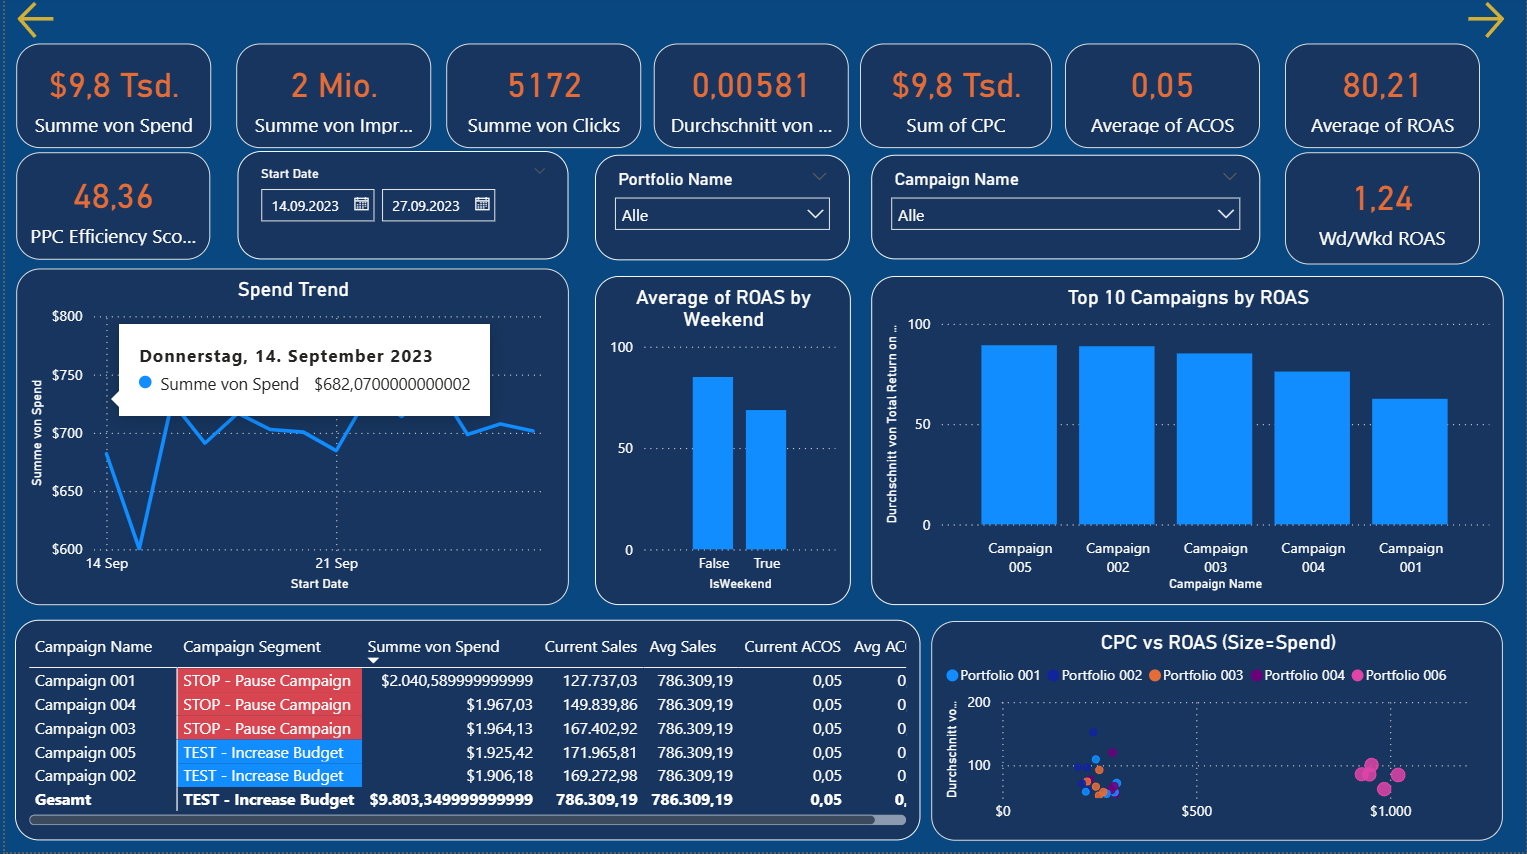

The page's visual inventory and layout, read from the dashboard file:
{"tool":"powerbi","page":{"name":"PPC Optimization 2","canvas":[1280,720],"ordinal":5},"visuals":[{"type":"card","fields":{"Values":["Sum(products_campaign_report.Spend)"]},"box":[9,40.4,164,88],"z":0},{"type":"card","fields":{"Values":["Sum(products_campaign_report.Clicks)"]},"box":[371.7,40.4,164.3,88],"z":1000},{"type":"card","fields":{"Values":["Sum(products_campaign_report.Impressions)"]},"box":[194.8,40.4,164.3,88],"z":2000},{"type":"card","fields":{"Values":["Avg(products_campaign_report.Click-Thru Rate (CTR))"]},"box":[545.8,40.4,164.3,88],"z":3000},{"type":"card","fields":{"Values":["Sum(products_campaign_report.Cost Per Click (CPC))"]},"box":[719.1,40.4,161.6,88],"z":4000},{"type":"card","fields":{"Values":["Avg(products_campaign_report.Total Return on Advertising Spend (ROAS))"]},"box":[1076.4,40.4,164.3,88],"z":5000},{"type":"card","fields":{"Values":["Avg(products_campaign_report.Total Advertising Cost of Sales (ACOS) )"]},"box":[891.5,40.4,164.3,88],"z":6000},{"type":"slicer","fields":{"Values":["products_campaign_report.Portfolio name"]},"box":[495.9,133,214.7,88.7],"z":7000},{"type":"slicer","fields":{"Values":["products_campaign_report.Campaign Name"]},"box":[728.7,134,327.6,87.7],"z":8000},{"type":"slicer","fields":{"Values":["products_campaign_report.Start Date"]},"box":[195.2,130.7,278.5,91.3],"z":9000},{"type":"lineChart","title":"Spend Trend","fields":{"Category":["products_campaign_report.Start Date"],"Y":["Sum(products_campaign_report.Spend)"]},"box":[9,229.3,464.8,283],"z":10000},{"type":"clusteredColumnChart","title":"Top 10 Campaigns by ROAS","fields":{"Category":["products_campaign_report.Campaign Name"],"Y":["Avg(products_campaign_report.Total Return on Advertising Spend (ROAS))"]},"box":[729,235.5,531.9,276.7],"z":11000},{"type":"scatterChart","title":"CPC vs ROAS (Size=Spend)","fields":{"X":["Sum(products_campaign_report.Cost Per Click (CPC))"],"Y":["Avg(products_campaign_report.Total Return on Advertising Spend (ROAS))"],"Size":["Sum(products_campaign_report.Spend)"],"Category":["products_campaign_report.Campaign Name"],"Series":["products_campaign_report.Portfolio name"]},"box":[779.3,525.2,481.2,184.9],"z":12000},{"type":"columnChart","title":"Average of ROAS by Weekend","fields":{"Y":["Avg(products_campaign_report.Total Return on Advertising Spend (ROAS))"],"Category":["DimDate.IsWeekend"]},"box":[496.1,235.5,214.9,276.7],"z":13000},{"type":"card","fields":{"Values":["products_campaign_report.KPI_WeekdayWeekendROAS"]},"box":[1076.7,131.3,163.8,94.1],"z":14000},{"type":"pivotTable","fields":{"Rows":["products_campaign_report.Campaign Name"],"Values":["Yeni Measure.Campaign Segment","Sum(products_campaign_report.Spend)","Yeni Measure.CURRENTSales","Yeni Measure.AVGSales","Yeni Measure.CUTRENTACOS","Yeni Measure.AVGACOS"]},"box":[8.7,525,761.8,185.4],"z":15000},{"type":"card","fields":{"Values":["Yeni Measure.PPC Efficiency Score"]},"box":[9.9,131.1,163.4,90.7],"z":16000},{"type":"actionButton","box":[6.3,0,47.6,40.4],"z":17000},{"type":"actionButton","box":[1224.5,0,49.4,40.4],"z":18000}]}

Visuals, with their boxes in screenshot pixels (x1, y1, x2, y2), scaled from the page's 1280x720 canvas onto the 1527x854 screenshot:
card - Sum(products_campaign_report.Spend): pyautogui.locateOnScreen(11, 48, 206, 152)
card - Sum(products_campaign_report.Clicks): pyautogui.locateOnScreen(443, 48, 639, 152)
card - Sum(products_campaign_report.Impressions): pyautogui.locateOnScreen(232, 48, 428, 152)
card - Avg(products_campaign_report.Click-Thru Rate (CTR)): pyautogui.locateOnScreen(651, 48, 847, 152)
card - Sum(products_campaign_report.Cost Per Click (CPC)): pyautogui.locateOnScreen(858, 48, 1051, 152)
card - Avg(products_campaign_report.Total Return on Advertising Spend (ROAS)): pyautogui.locateOnScreen(1284, 48, 1480, 152)
card - Avg(products_campaign_report.Total Advertising Cost of Sales (ACOS) ): pyautogui.locateOnScreen(1064, 48, 1260, 152)
slicer - products_campaign_report.Portfolio name: pyautogui.locateOnScreen(592, 158, 848, 263)
slicer - products_campaign_report.Campaign Name: pyautogui.locateOnScreen(869, 159, 1260, 263)
slicer - products_campaign_report.Start Date: pyautogui.locateOnScreen(233, 155, 565, 263)
"Spend Trend" lineChart: pyautogui.locateOnScreen(11, 272, 565, 608)
"Top 10 Campaigns by ROAS" clusteredColumnChart: pyautogui.locateOnScreen(870, 279, 1504, 608)
"CPC vs ROAS (Size=Spend)" scatterChart: pyautogui.locateOnScreen(930, 623, 1504, 842)
"Average of ROAS by Weekend" columnChart: pyautogui.locateOnScreen(592, 279, 848, 608)
card - products_campaign_report.KPI_WeekdayWeekendROAS: pyautogui.locateOnScreen(1284, 156, 1480, 267)
pivotTable - products_campaign_report.Campaign Name x Yeni Measure.Campaign Segment: pyautogui.locateOnScreen(10, 623, 919, 843)
card - Yeni Measure.PPC Efficiency Score: pyautogui.locateOnScreen(12, 155, 207, 263)
actionButton: pyautogui.locateOnScreen(8, 0, 64, 48)
actionButton: pyautogui.locateOnScreen(1461, 0, 1520, 48)
